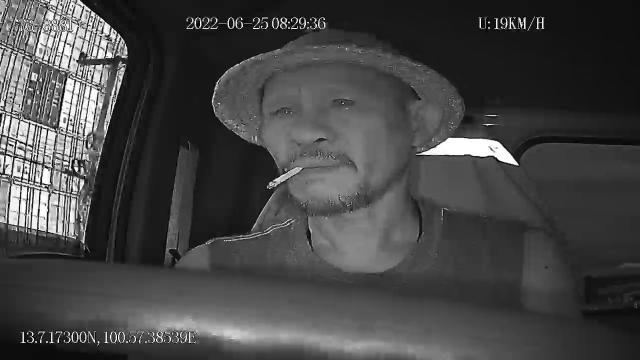SafeDriving: (324, 88, 364, 114), (266, 98, 302, 120)
Smoking: (266, 164, 304, 190)
